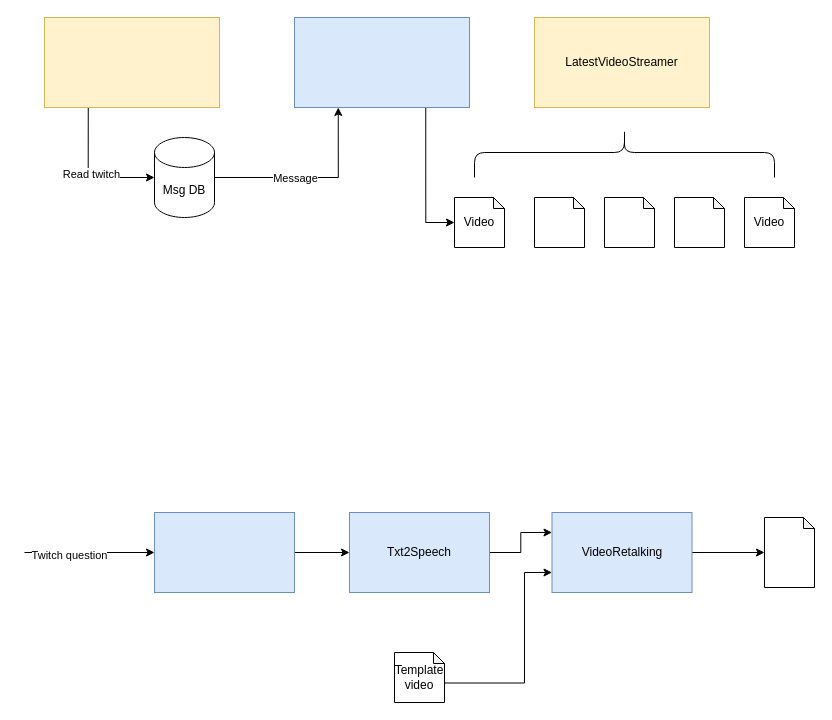
Image size: 832x720. Some labels were removed from this diagram. The shapes that lost their labels are listed below. From the top down, each one's centre as x and y in pixels, then its label:
(132,62): ChatReader
(382,62): VideoBuilder
(224,552): ChatGPT
(789,552): Video answer
